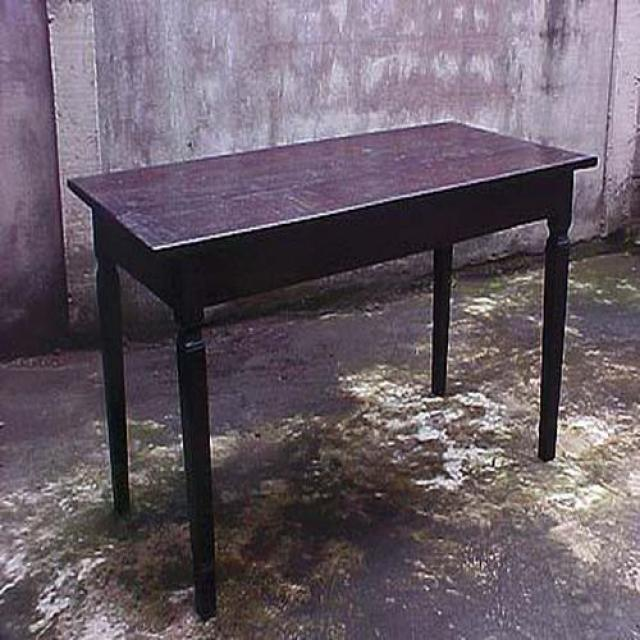table: (67, 122, 599, 625)
